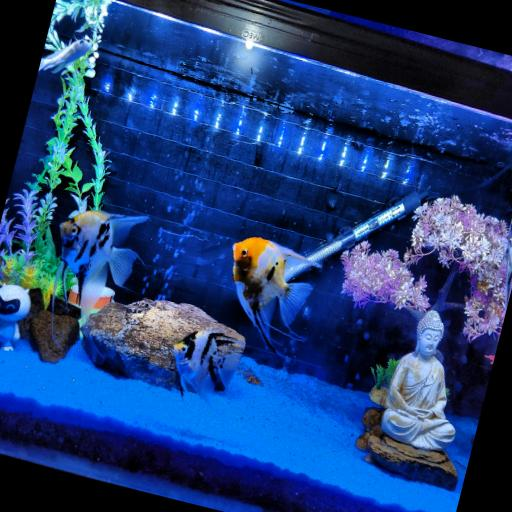Fish: (55, 211, 147, 325), (233, 237, 320, 355), (174, 331, 242, 404), (38, 39, 91, 73), (503, 224, 511, 309)
